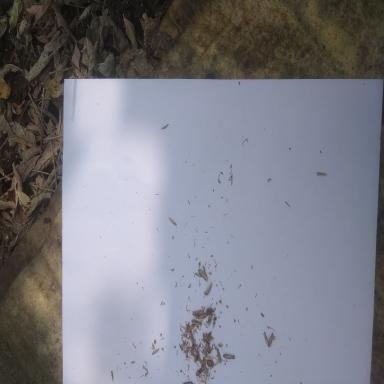pbw: (198, 268, 207, 281), (185, 324, 194, 334), (216, 348, 222, 362), (205, 284, 212, 295), (207, 312, 213, 324), (268, 332, 273, 346), (198, 313, 208, 319), (192, 310, 202, 316), (191, 319, 201, 325), (223, 354, 235, 359), (195, 368, 202, 376), (203, 344, 208, 354), (203, 356, 213, 360), (182, 381, 192, 384)
